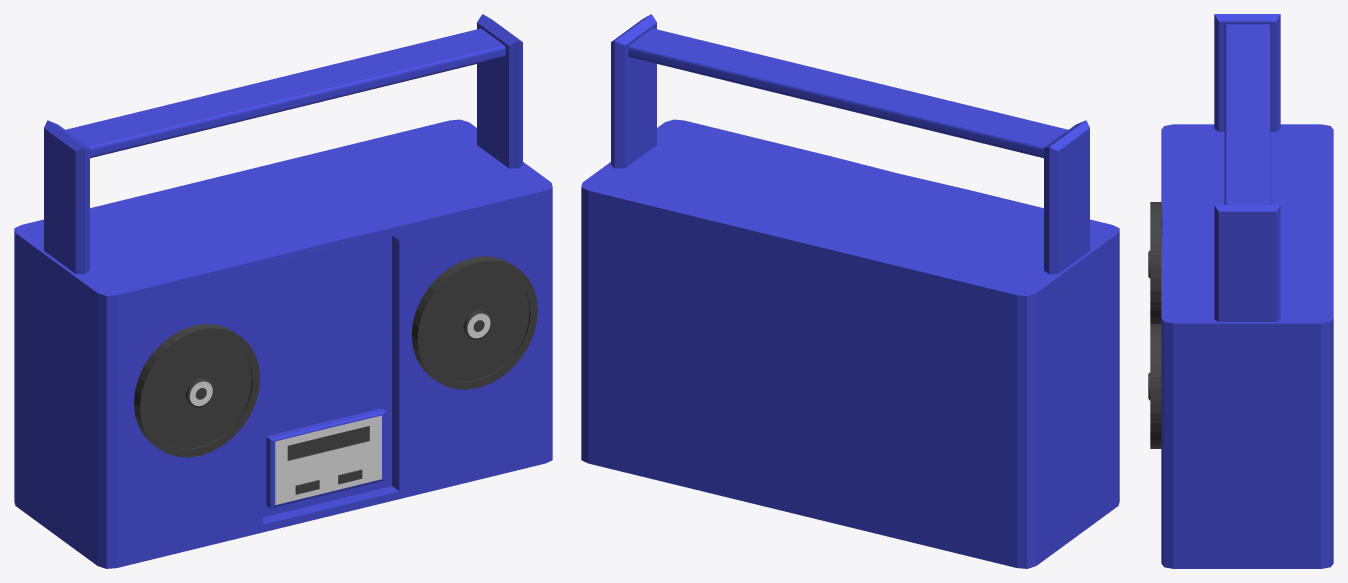
Rendered from boombox.fbx.
3 views of the same model, side by side, from view 1: azimuth 30°, elevation 25°; view 2: azimuth 150°, elevation 25°; view 3: azimuth 270°, elevation 25° (orthographic). The views are drawn at different scales.
Parts seen in each view (by area): view 1: Cube, Cylinder.001, Cylinder; view 2: Cube; view 3: Cube, Cylinder.001, Cylinder.
Part boxes in pixels (left/top/right/bottom): Cube: left=14, top=14, right=552, bottom=568; Cylinder.001: left=411, top=256, right=537, bottom=389; Cylinder: left=134, top=324, right=260, bottom=457; Cube: left=581, top=14, right=1119, bottom=568; Cube: left=1161, top=14, right=1333, bottom=568; Cylinder.001: left=1148, top=324, right=1161, bottom=448; Cylinder: left=1148, top=202, right=1161, bottom=323.
Bounding box in the file's own units: 546 × 460 × 215.
